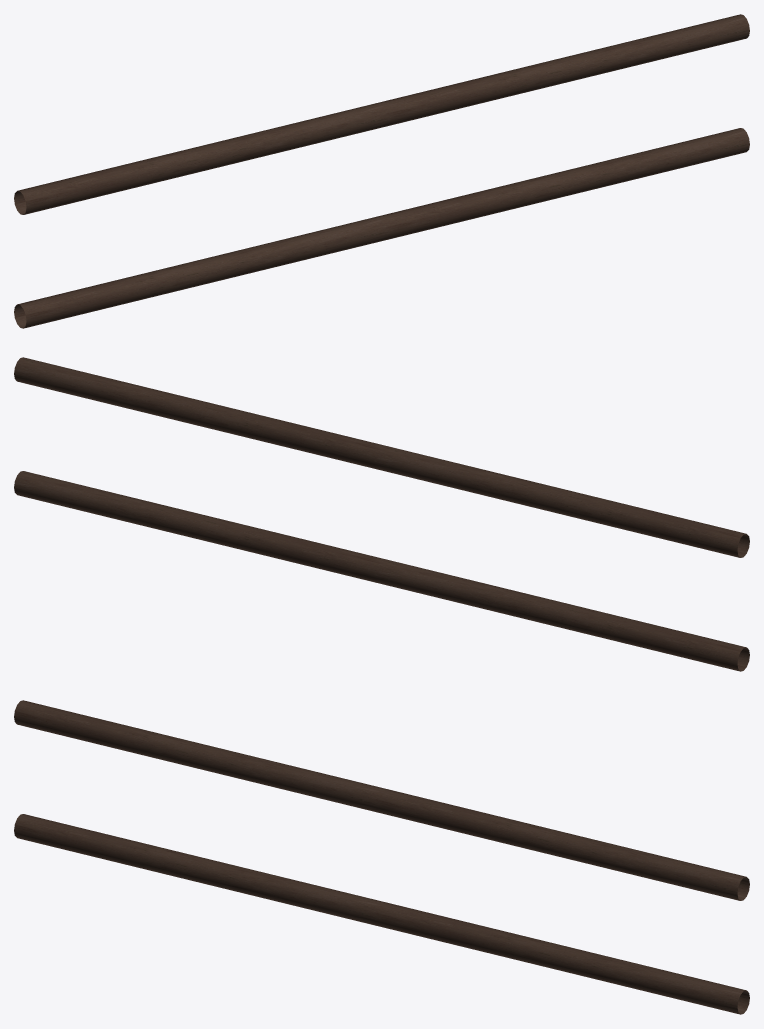
Rendered from Guardrail_2_brown_bar.fbx.
3 views of the same model, one above another, from view 1: azimuth 30°, elevation 25°; view 2: azimuth 150°, elevation 25°; view 3: azimuth 330°, elevation 25° (orthographic).
Visible parts, largest first — view 1: 20_bar_2; view 2: 20_bar_2; view 3: 20_bar_2.
Boxes of the visible parts, x1,y1,x2,y2 form: 20_bar_2: (14, 14, 749, 328); 20_bar_2: (14, 357, 749, 671); 20_bar_2: (14, 700, 749, 1014).
Bounding box in the file's own units: 2 × 0.36 × 0.06.
